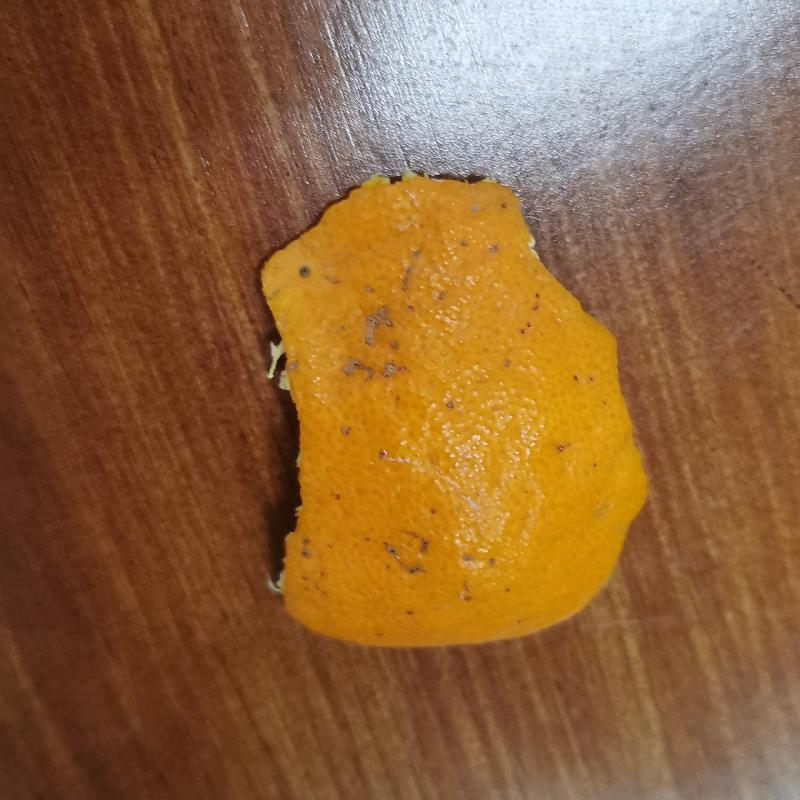orange: (234, 166, 651, 645)
